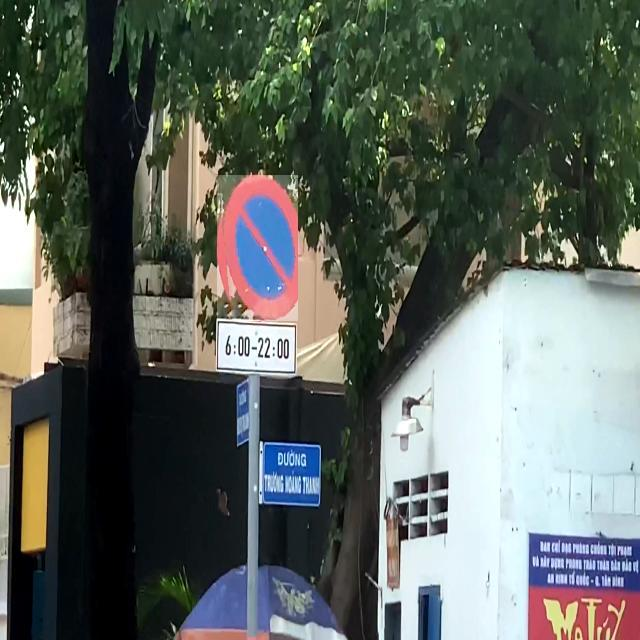P-131a: (217, 175, 298, 321)
